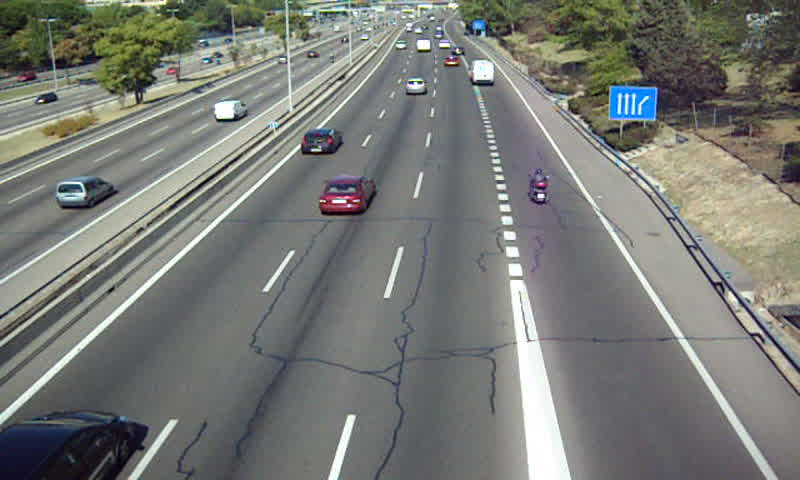car: (318, 176, 375, 214), (300, 128, 343, 155), (403, 77, 426, 96), (440, 56, 460, 70), (393, 40, 406, 49), (452, 46, 463, 55)
motorcycle: (526, 167, 551, 205)
van: (471, 59, 496, 85), (415, 39, 429, 52)
